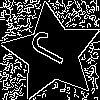J: (27, 28, 79, 72)
